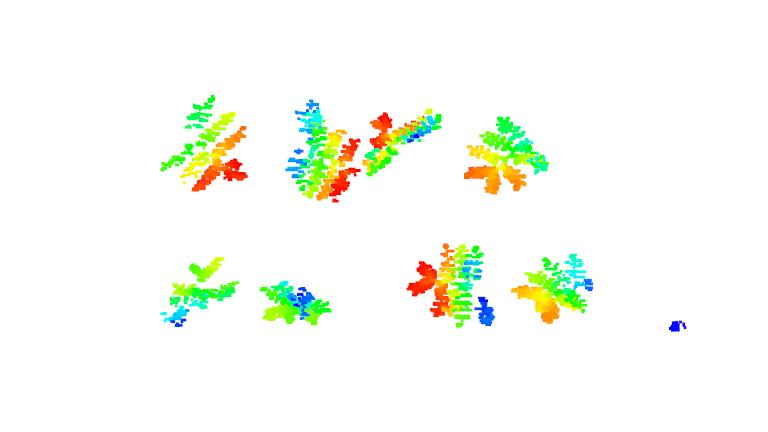chickpea: (154, 94, 252, 195), (404, 238, 496, 330), (282, 100, 358, 207), (458, 115, 552, 195), (513, 252, 597, 328), (361, 104, 447, 178), (160, 255, 244, 324), (257, 279, 334, 326)
